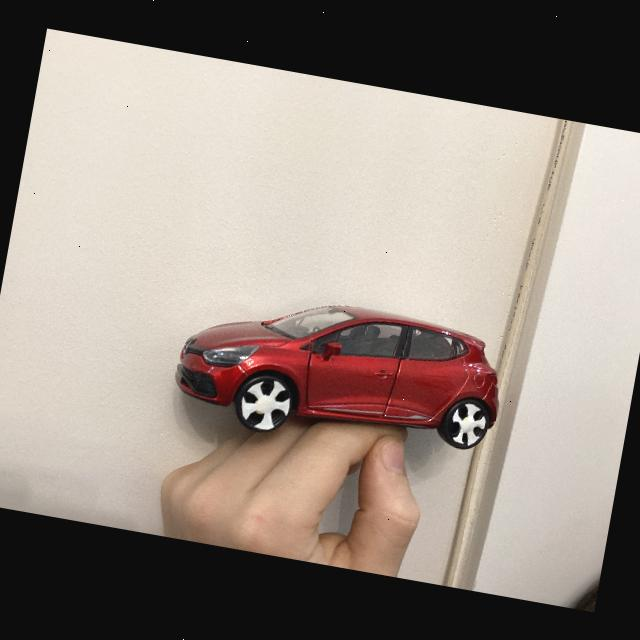Yanlis_Jant: (237, 374, 294, 434), (446, 400, 489, 450)
